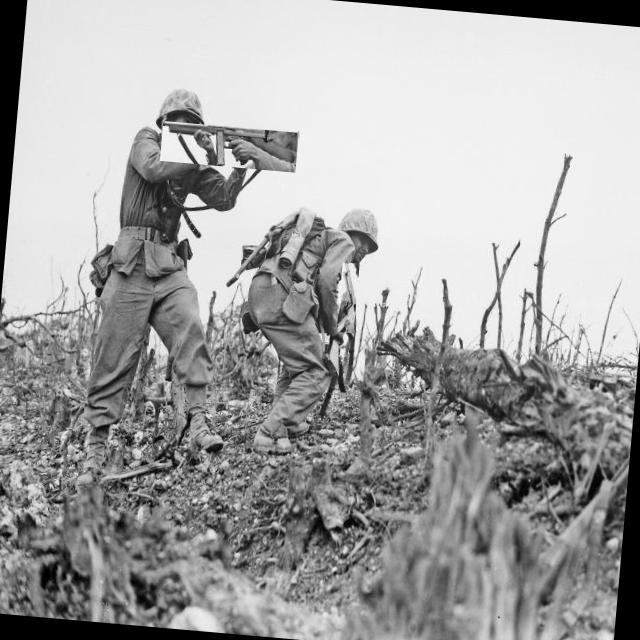Gun: (163, 124, 296, 166), (337, 263, 356, 332), (326, 339, 342, 370)
